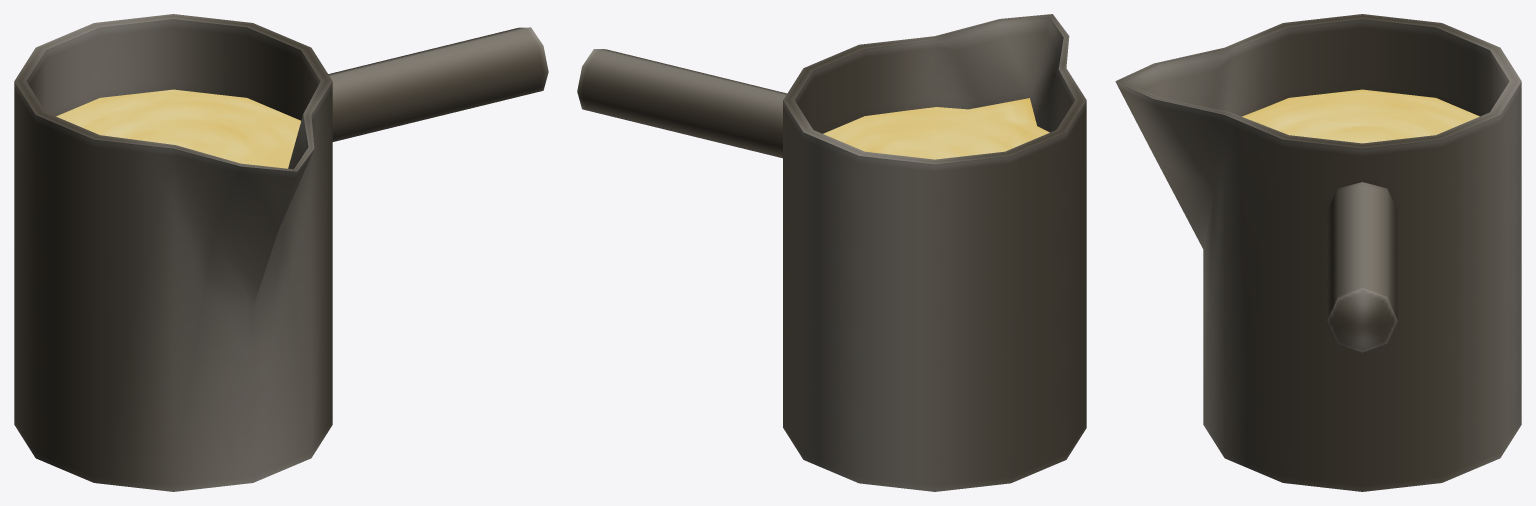
The model's file is jsf_Dough_02.fbx.
The picture shows the model from 3 angles, left to right: view 1: azimuth 30°, elevation 25°; view 2: azimuth 150°, elevation 25°; view 3: azimuth 270°, elevation 25°; orthographic projection. The views are drawn at different scales.
Visible parts, largest first — view 1: jsf_Dough_02; view 2: jsf_Dough_02; view 3: jsf_Dough_02.
Part boxes in pixels (x1,y1,x2,y2): jsf_Dough_02: [14, 14, 548, 491]; jsf_Dough_02: [577, 14, 1086, 491]; jsf_Dough_02: [1115, 14, 1521, 491].
Size of the model in its own units: 20.51 by 13.27 by 14.24.
